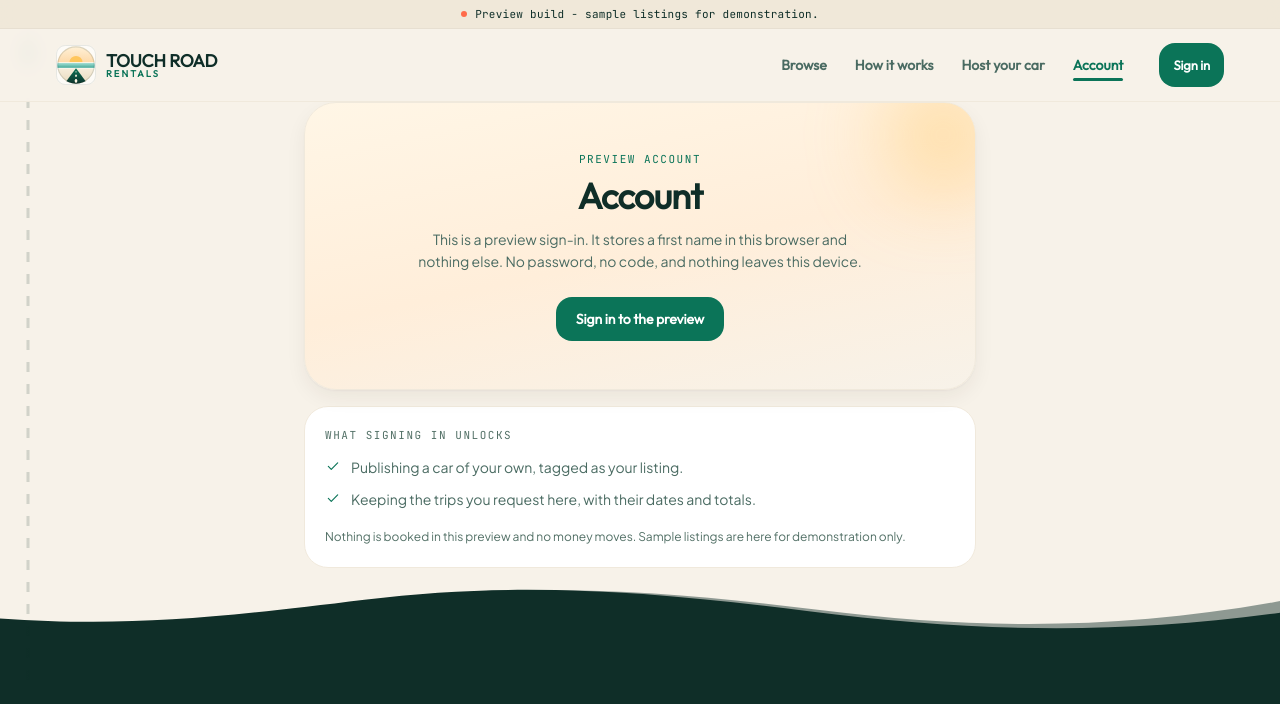
Scenario: signing up › keeps a guest account a guest
Step 1. Click the button "Sign in to the preview" → [640, 319], box [556,297,724,341]
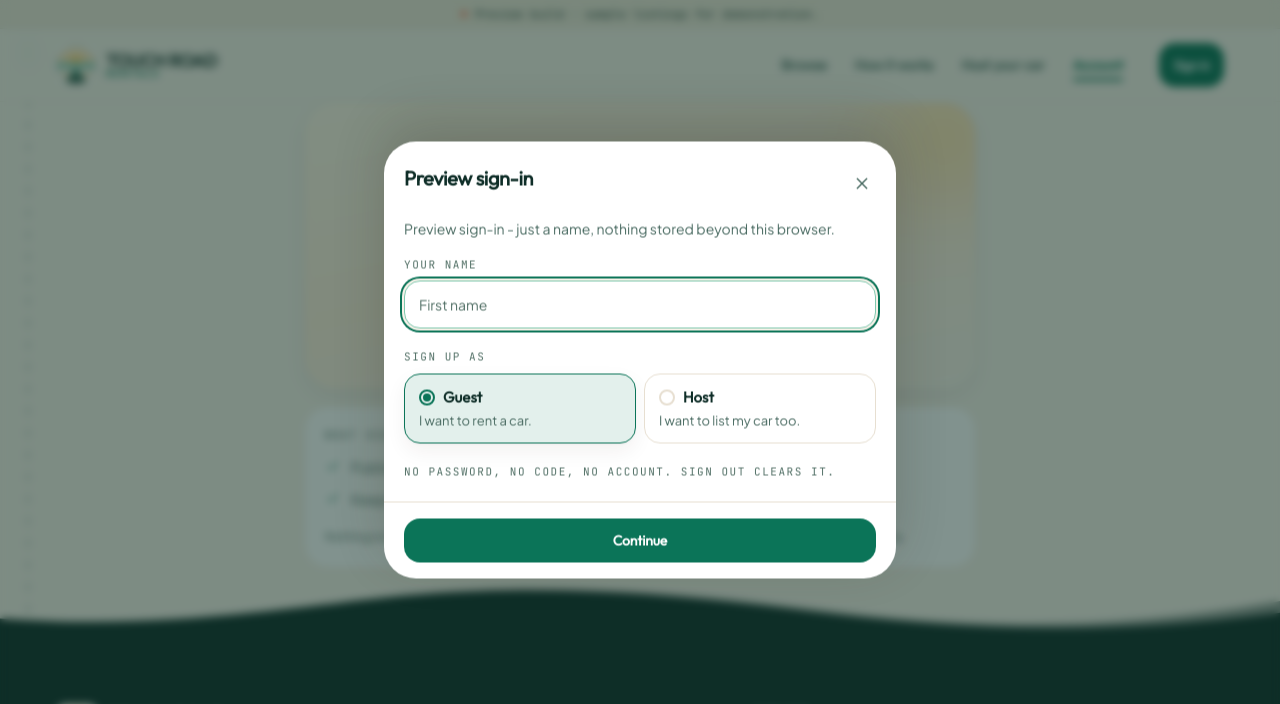
Step 2. Type "Danny" into the field with test id "auth-name-input" → [640, 305], box [404,281,876,329]
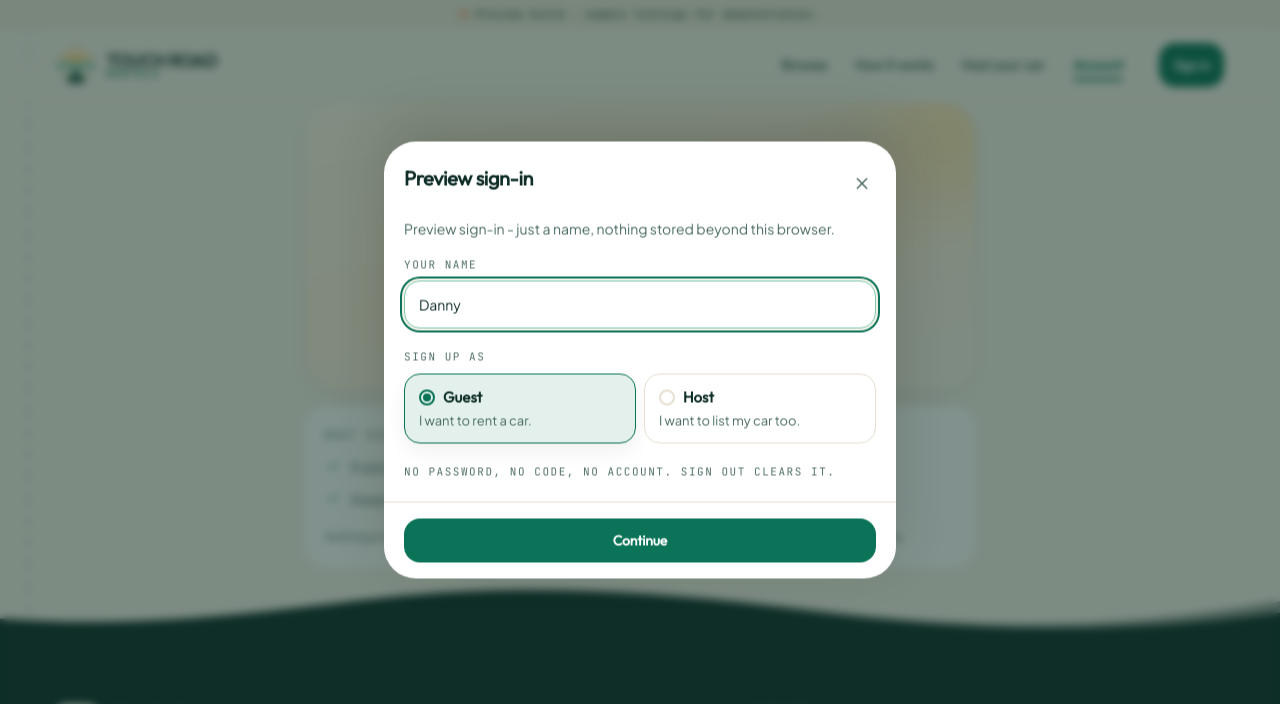
Step 3. Click the radio button with test id "role-guest" → [520, 408], box [404,373,636,444]
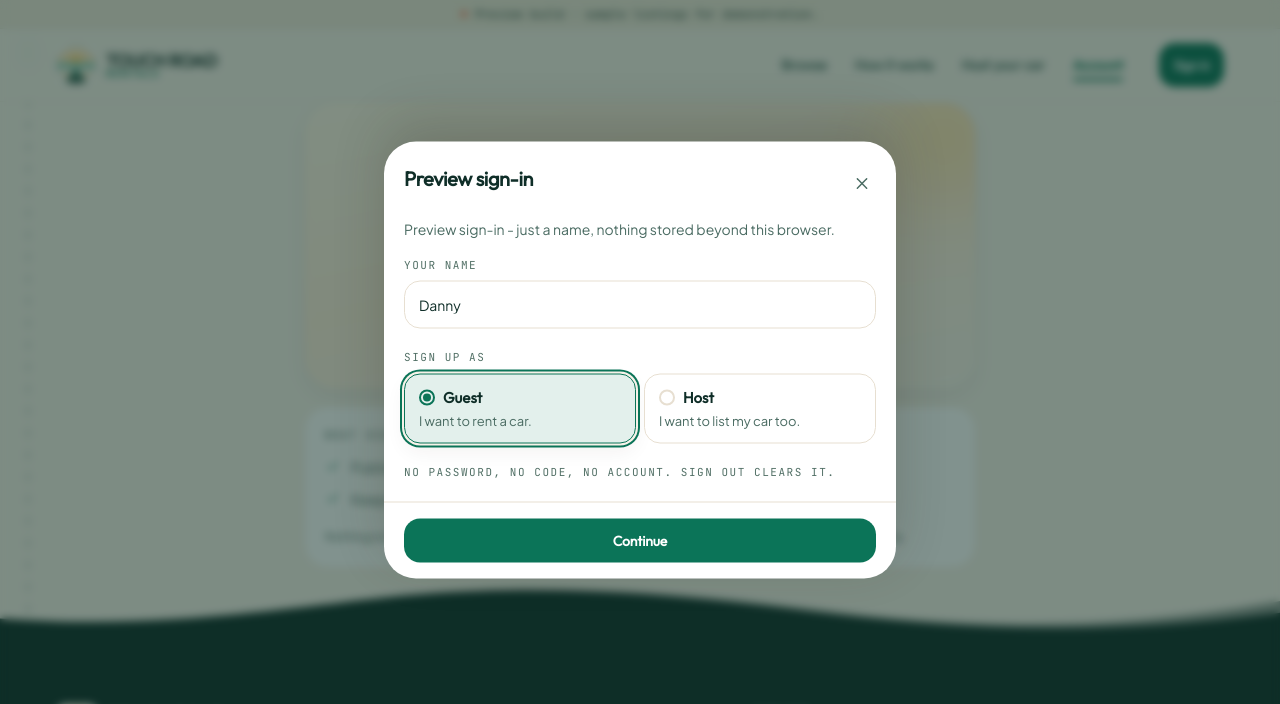
Step 4. Click the button with test id "auth-submit" → [640, 540], box [404,518,876,562]
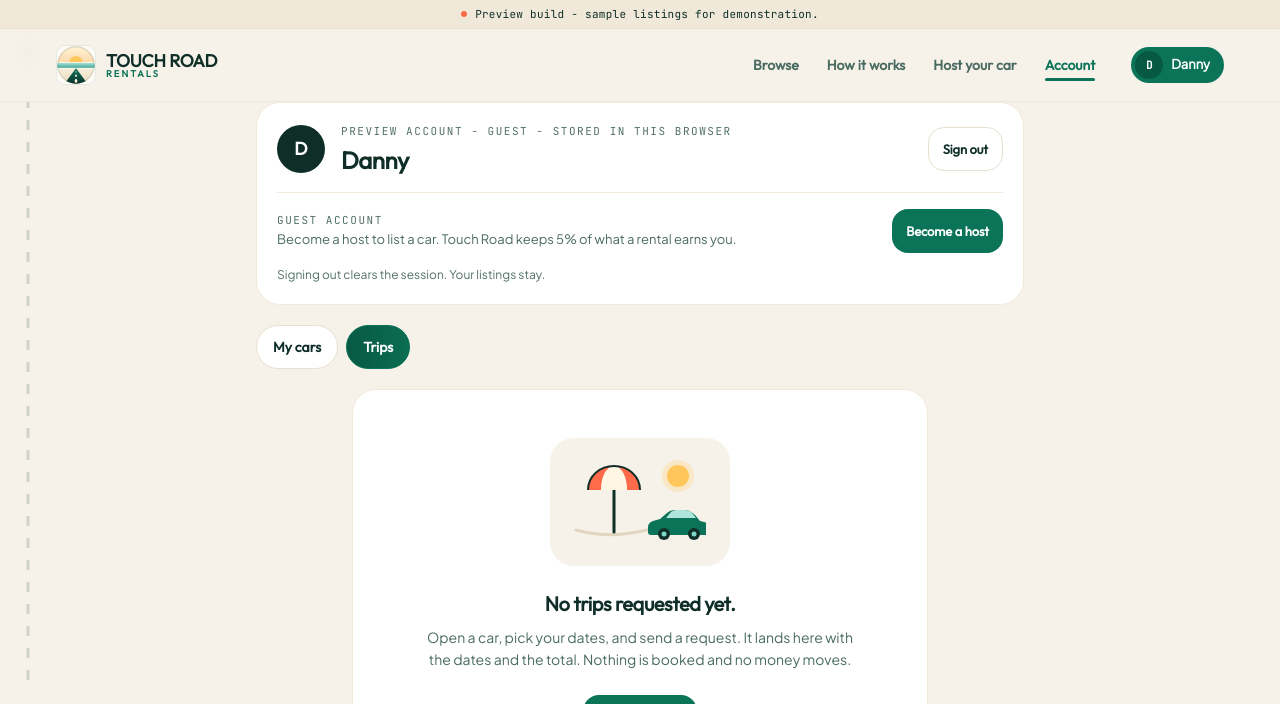
Check: the button with test id "become-host" is shown, box [892,208,1003,252]
